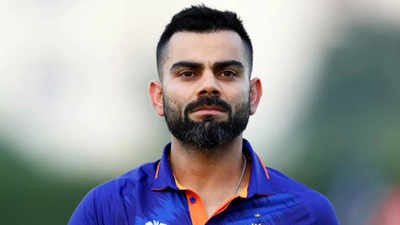NoMask: (167, 54, 246, 143)
